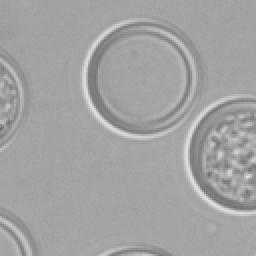picoshell: (82, 18, 196, 138), (184, 94, 254, 214), (0, 48, 28, 152), (0, 208, 36, 254), (98, 244, 170, 254)
